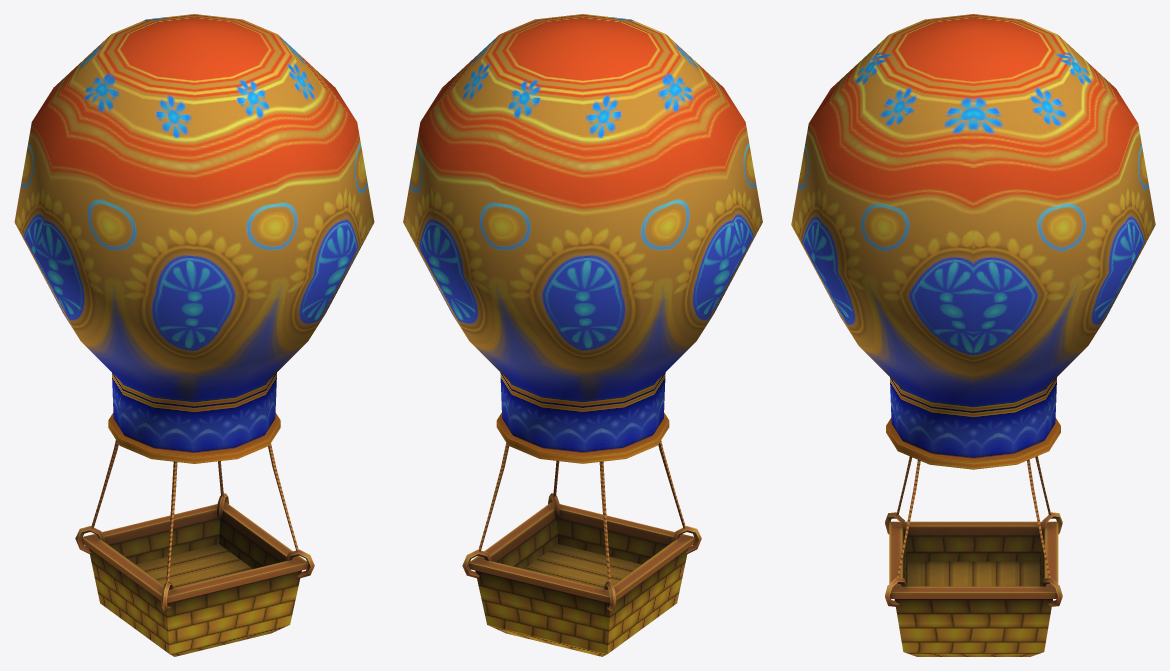
File: Balloon_01.FBX
3 renders of one model, left to right at view 1: azimuth 30°, elevation 25°; view 2: azimuth 150°, elevation 25°; view 3: azimuth 270°, elevation 25°, orthographic.
Visible parts, largest first — view 1: Balloon_01; view 2: Balloon_01; view 3: Balloon_01.
Boxes of the visible parts, x1,y1,x2,y2 form: Balloon_01: [14, 14, 374, 656]; Balloon_01: [403, 14, 762, 656]; Balloon_01: [791, 14, 1155, 656].
Size of the model in its own units: 3.03 by 5.52 by 3.03.
